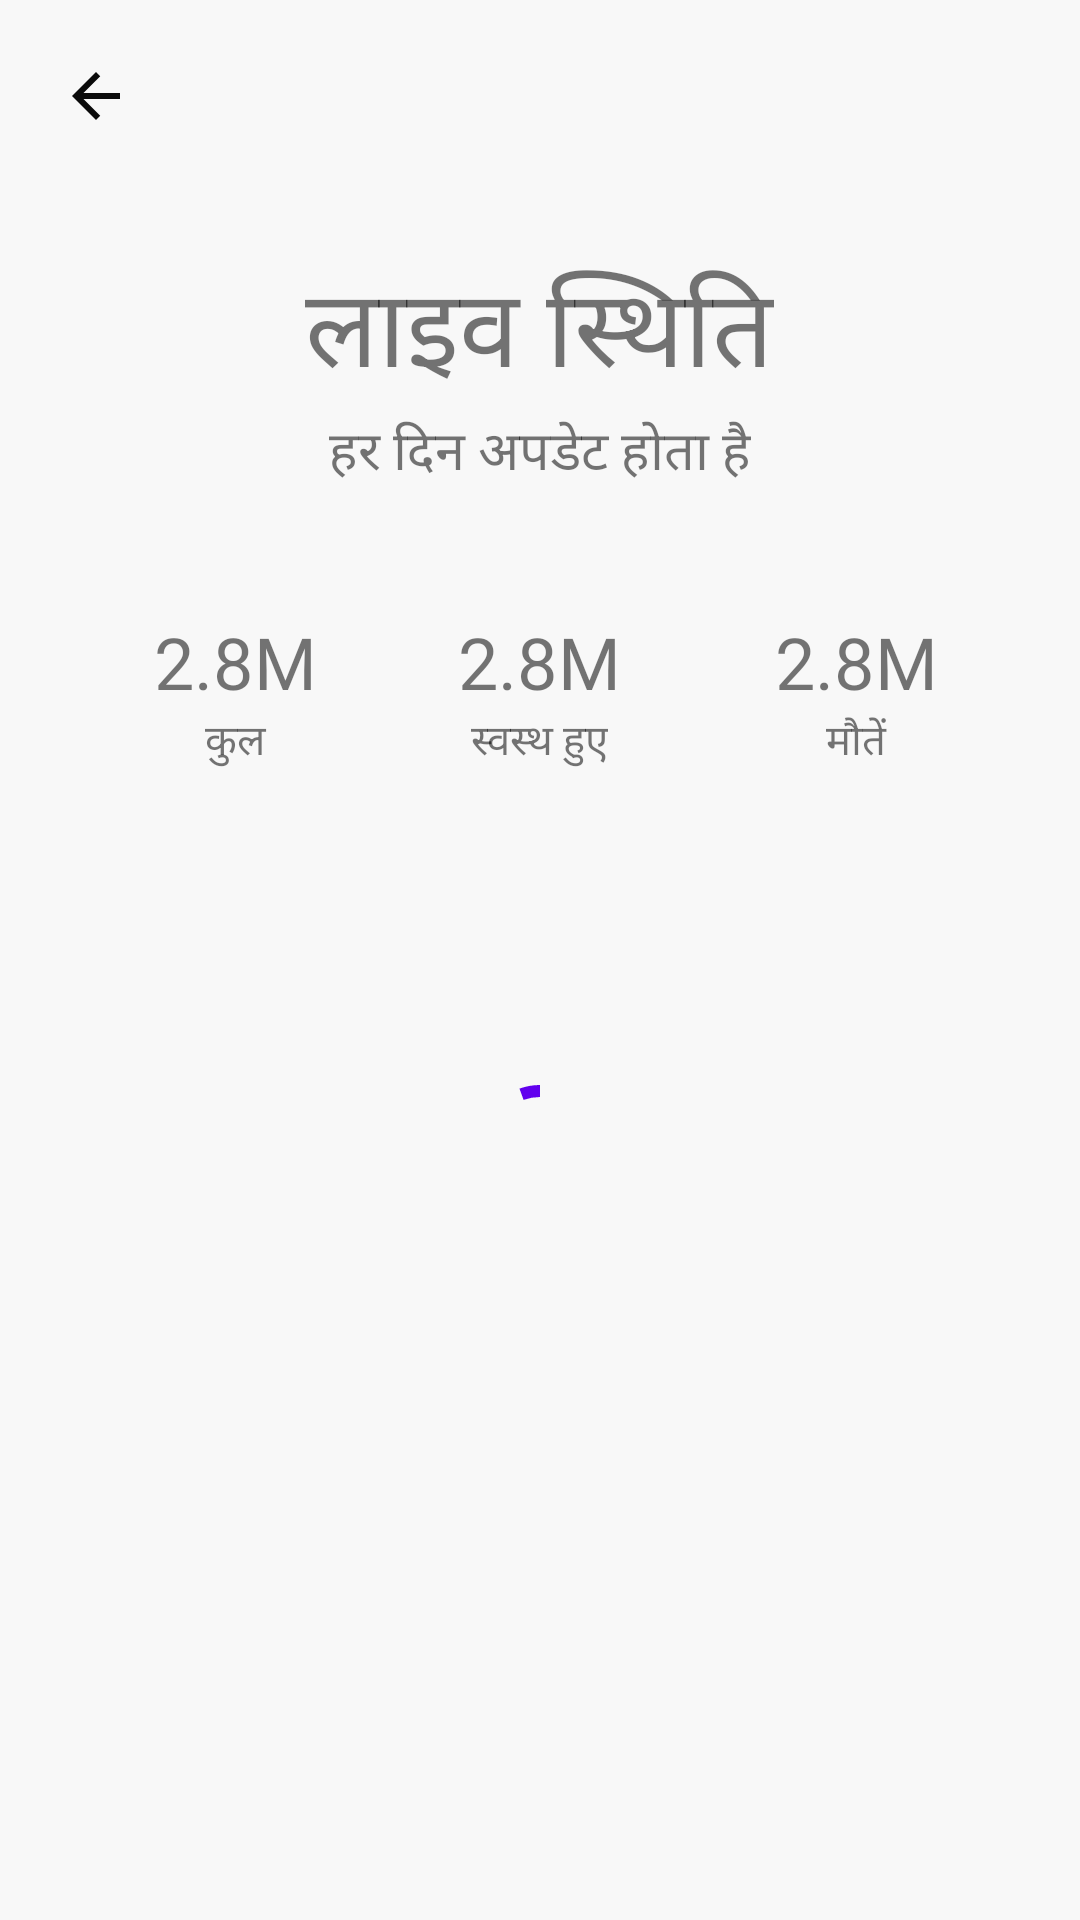

Icon bounding boxes for this 1080w x 1920h phone screenshot, format (x1, y1, x2, y2):
arrow back: (72, 72, 120, 120)
